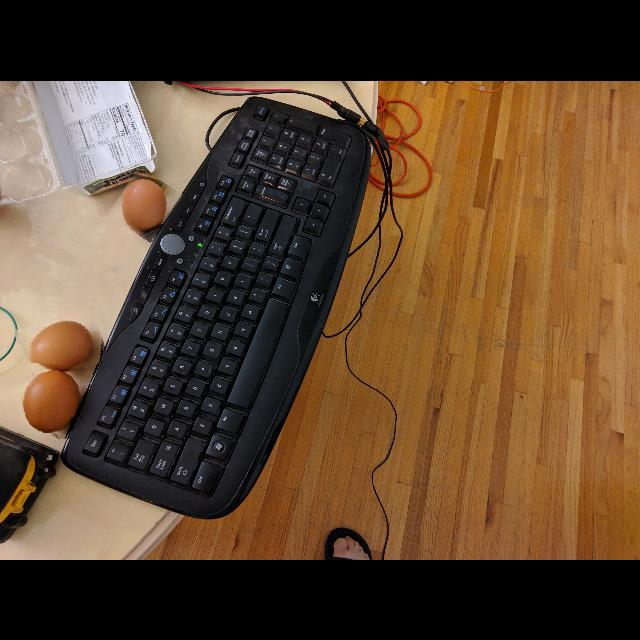Egg: (18, 310, 106, 380), (19, 363, 83, 439), (113, 172, 177, 238)
